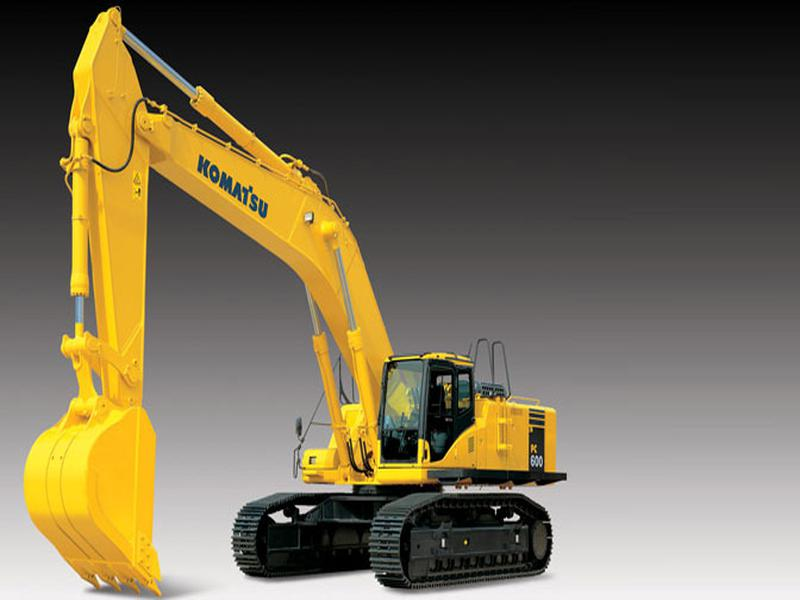shovel: (24, 5, 573, 600)
